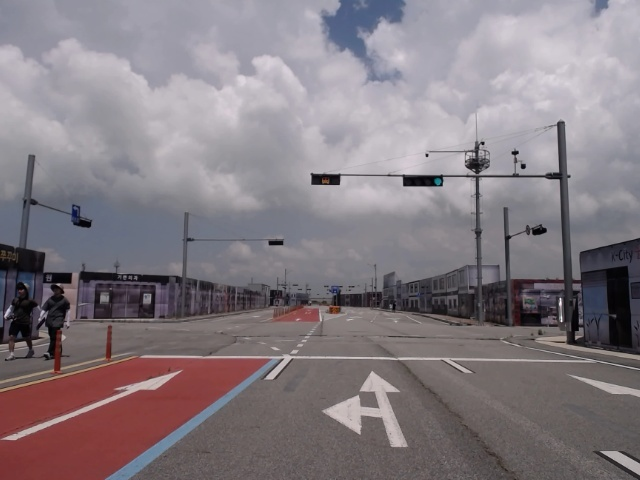straight_green_4: (403, 174, 444, 186)
